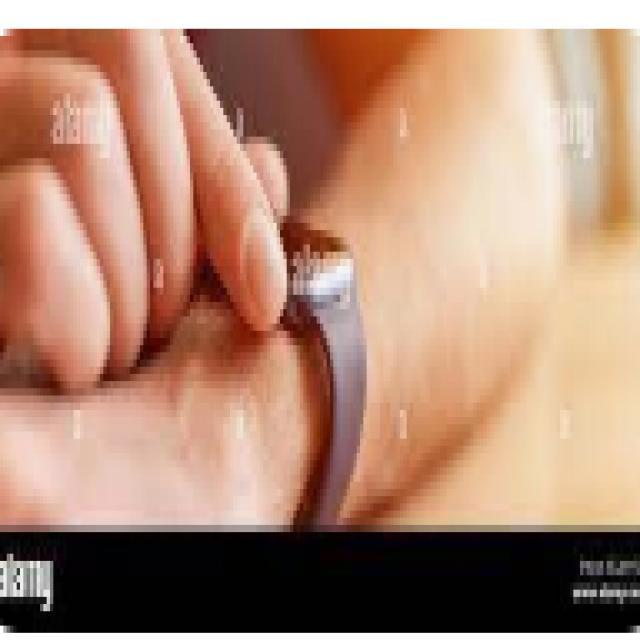Watch: (284, 217, 364, 527)
